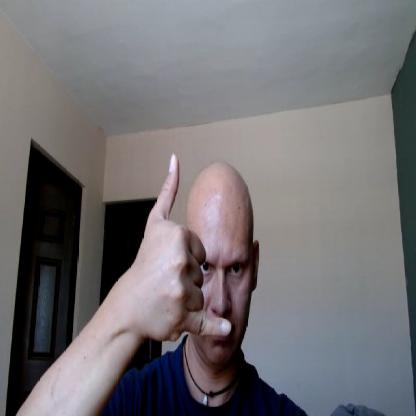Y: (144, 151, 233, 342)
